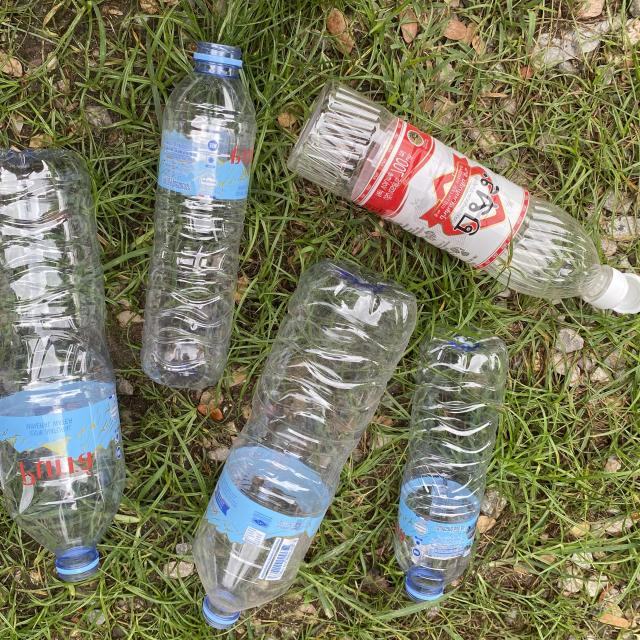plastik: (193, 259, 417, 628), (287, 80, 640, 314), (0, 149, 125, 581), (142, 41, 255, 388), (394, 327, 509, 603)
